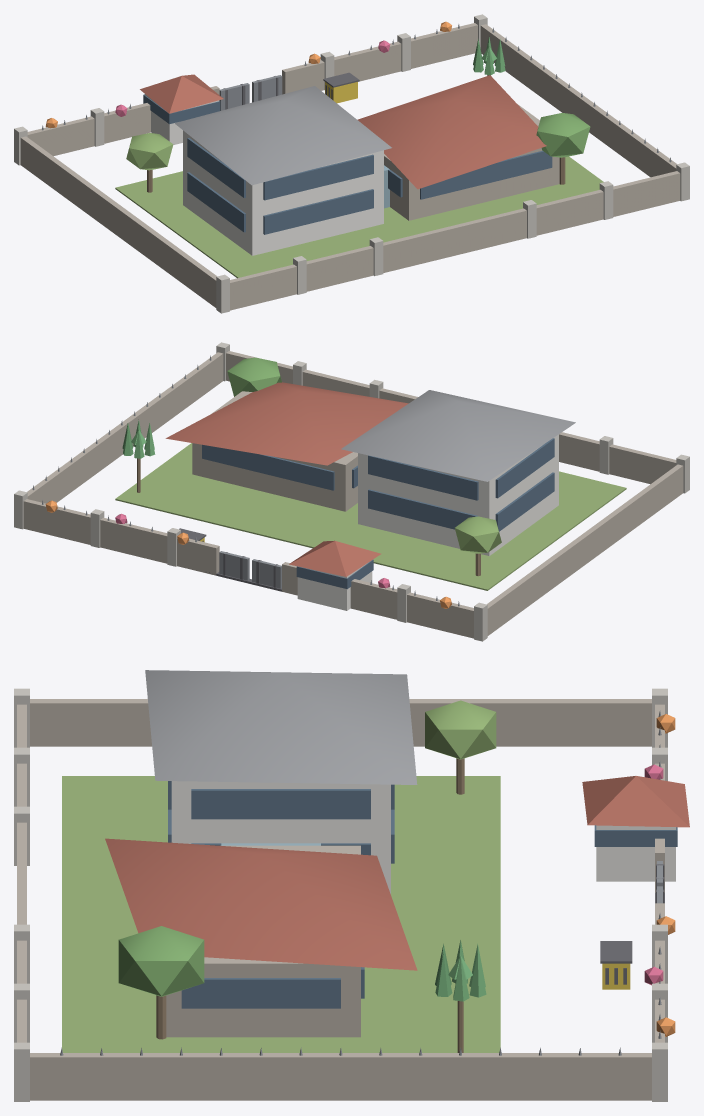
The model's file is villa_asokoro_1.glb.
The picture shows the model from 3 angles, top to bottom: view 1: azimuth 30°, elevation 25°; view 2: azimuth 150°, elevation 25°; view 3: azimuth 270°, elevation 25°; orthographic projection. The views are drawn at different scales.
Visible parts, largest first — view 1: BLD_villa_asokoro_1; view 2: BLD_villa_asokoro_1; view 3: BLD_villa_asokoro_1.
Boxes of the visible parts, box(x1,y1,x2,y2) form: BLD_villa_asokoro_1: box(14, 14, 689, 313); BLD_villa_asokoro_1: box(14, 342, 689, 641); BLD_villa_asokoro_1: box(14, 670, 689, 1101).
Bounding box in the file's own units: 42.8 × 10 × 33.9.
